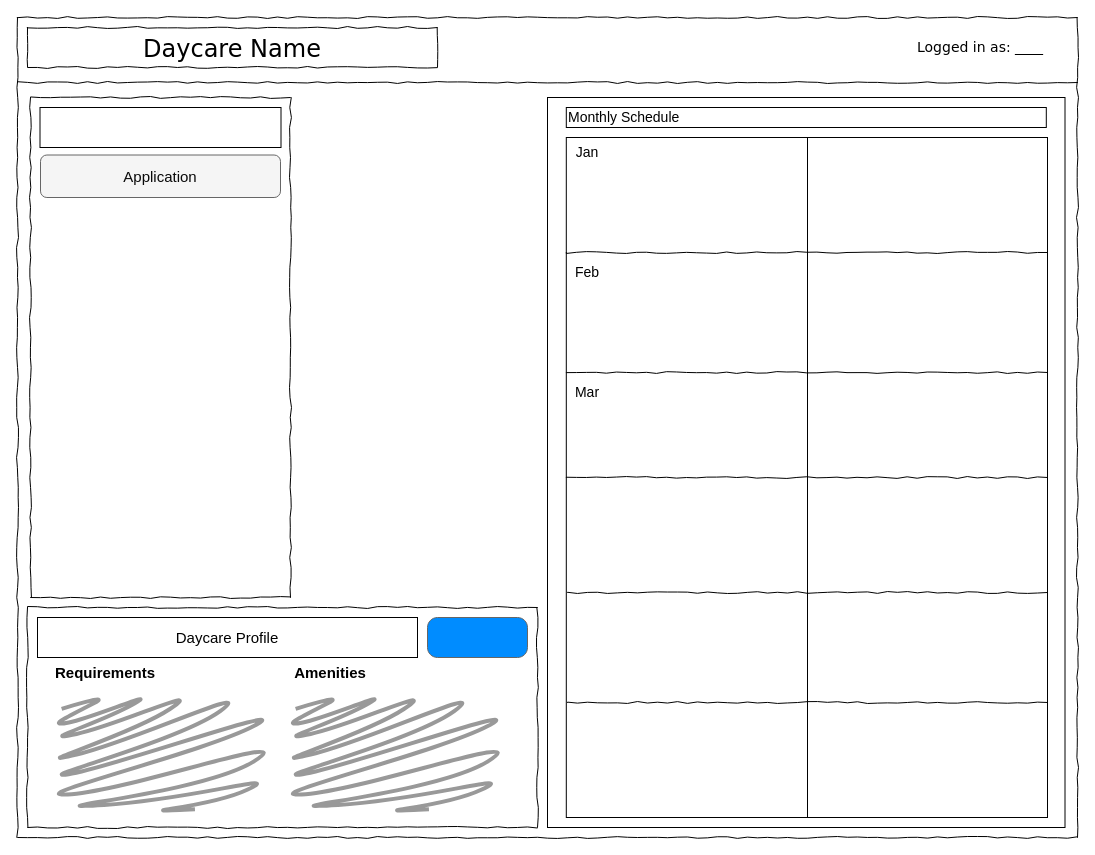
Image size: 1095x855. Some labels were removed from this diagram. Here are the shapes that lost their labels. From the top down, the centre of each, then its label:
At point 160,127: "New Applications".
At point 477,637: "Edit".
